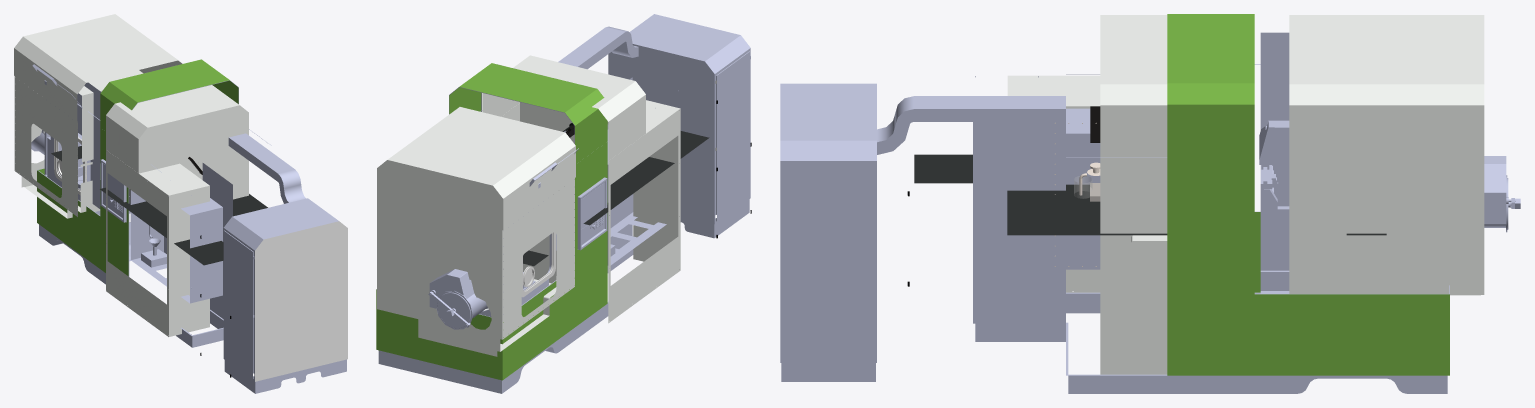
File: Beam_small.glb
The picture shows the model from 3 angles, left to right: view 1: azimuth 30°, elevation 25°; view 2: azimuth 150°, elevation 25°; view 3: azimuth 270°, elevation 25°; orthographic projection. The views are drawn at different scales.
Visible parts, largest first — view 1: Body - Teil, Body - Teil 19, Body - Teil 25; view 2: Body - Teil 19, Body - Teil, Body - Teil 25; view 3: Body - Teil, Body - Teil 19, Body - Teil 25.
Part boxes in pixels (x1,y1,x2,y2): Body - Teil: (31, 59, 347, 393); Body - Teil 19: (14, 14, 248, 377); Body - Teil 25: (51, 146, 267, 265); Body - Teil 19: (377, 55, 751, 356); Body - Teil: (376, 14, 750, 393); Body - Teil 25: (523, 131, 709, 266); Body - Teil: (780, 14, 1520, 393); Body - Teil 19: (907, 15, 1484, 374); Body - Teil 25: (914, 154, 1386, 235).
Bounding box in the file's own units: 62548 × 93379 × 205505.
11 materials, 7 textured.
